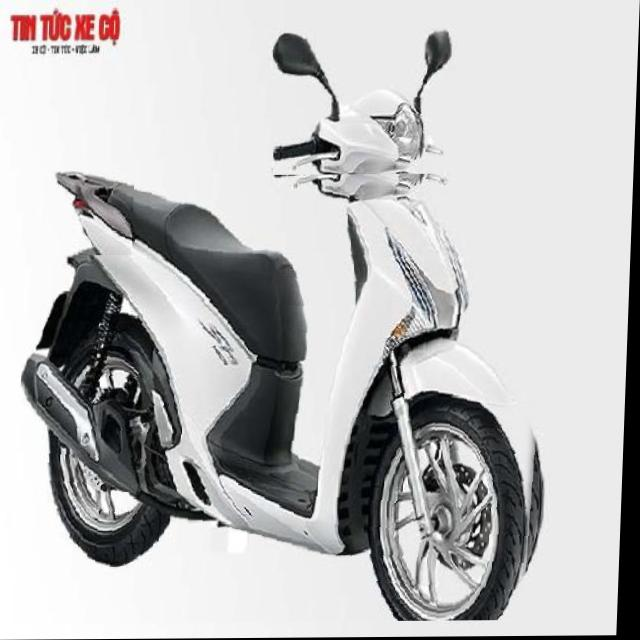All: (17, 83, 562, 624)
Head: (274, 88, 450, 176)
Tail: (48, 157, 136, 256)
